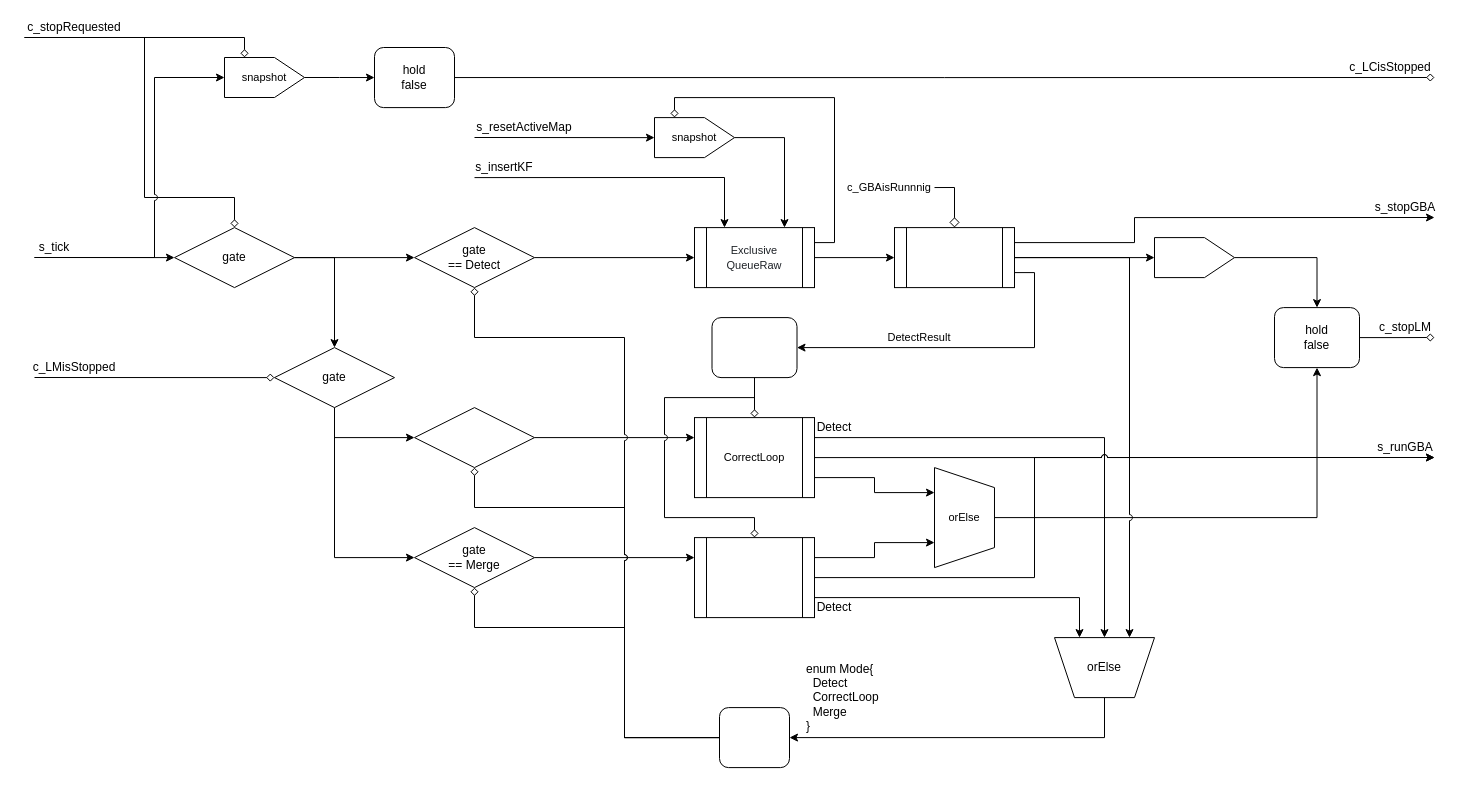
This 1460x785 diagram has some shape labels left out. Here are the shapes that lost their labels. From the top down, the centre of each, then its label:
the point at 954,257: Detector
the point at 1194,257: MapToTrue
the point at 754,347: hold
the point at 474,437: gate == CorrctLoop
the point at 754,577: Merge
the point at 754,737: hold Detect
